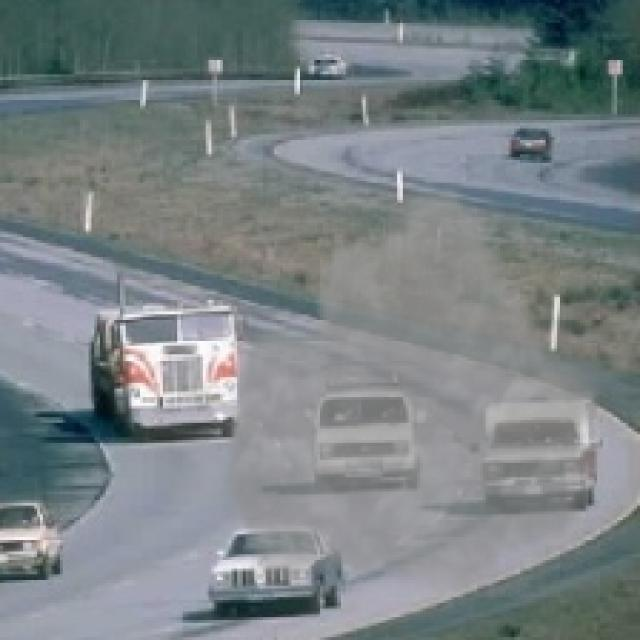smoke: (217, 174, 612, 600)
